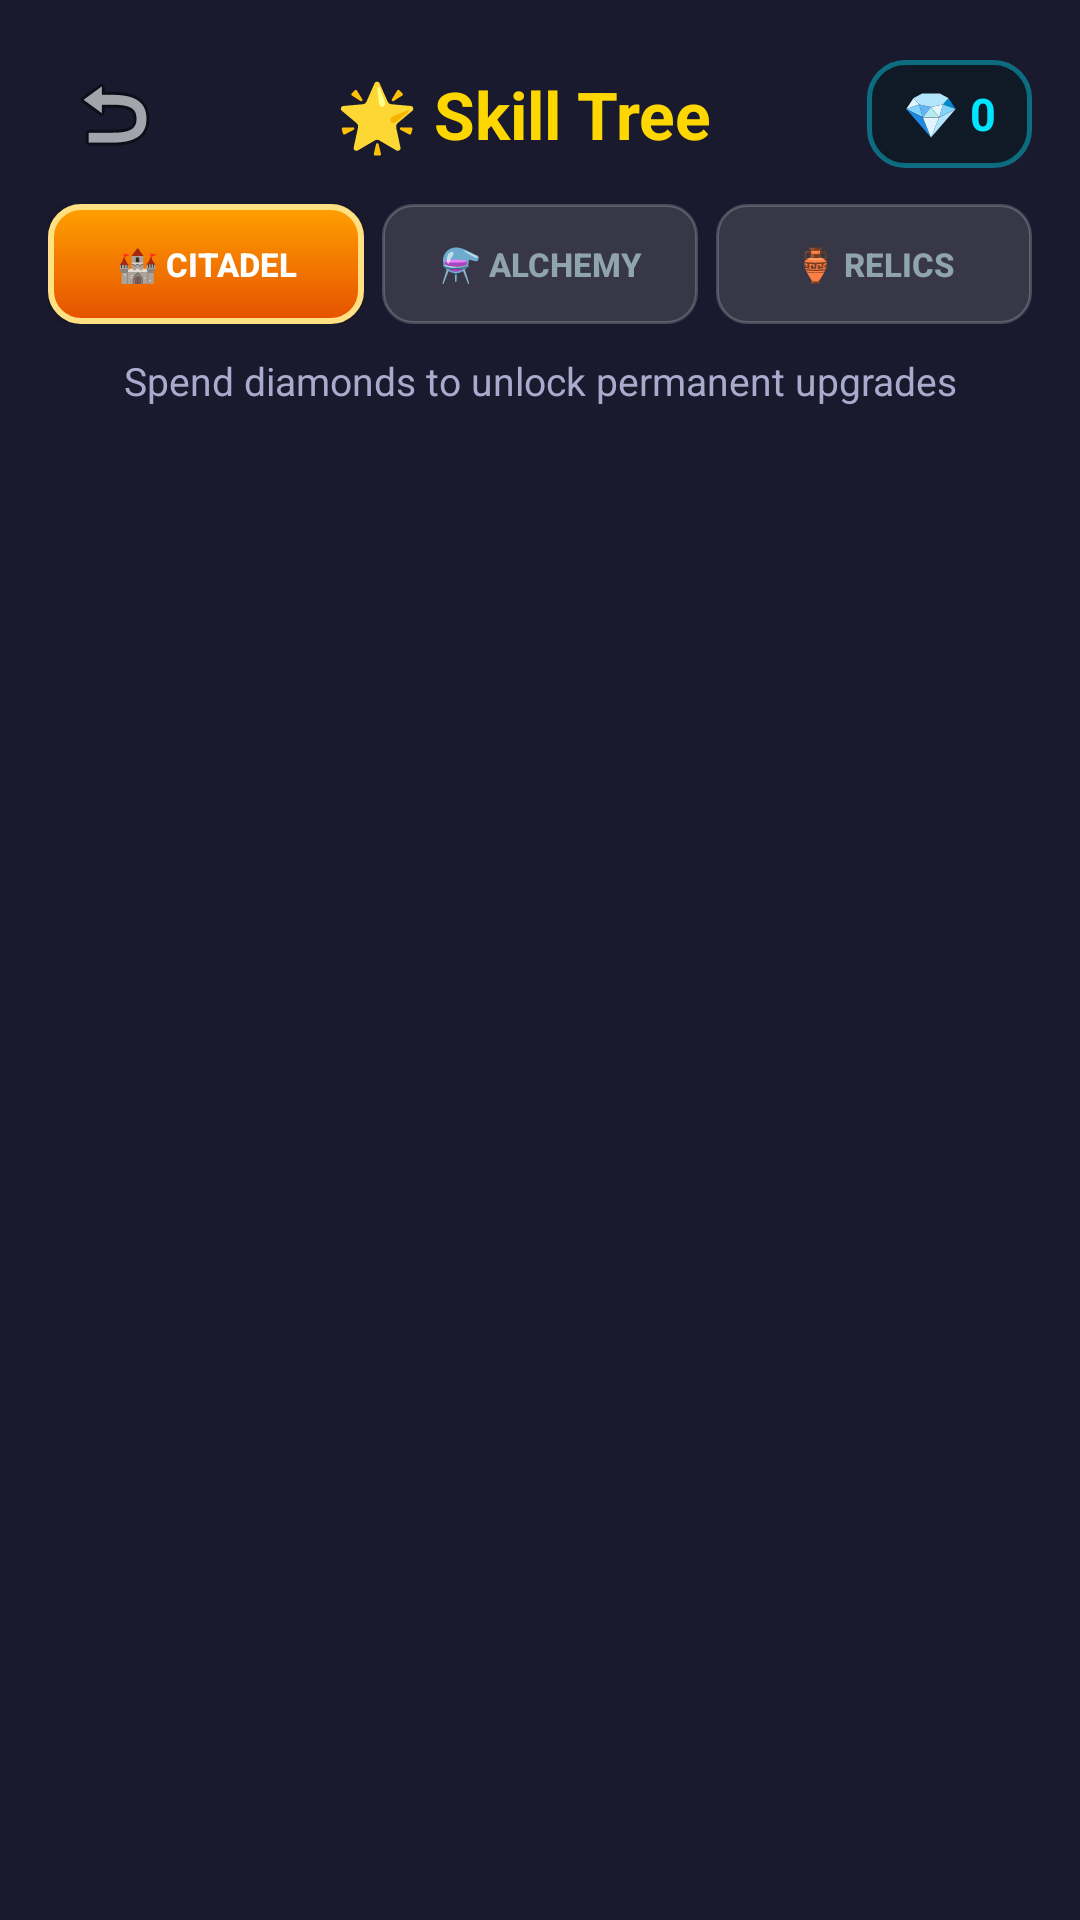

Icon click points for this 1080 × 1920 phone screenshot, format (x,y):
Back: (115,114)
